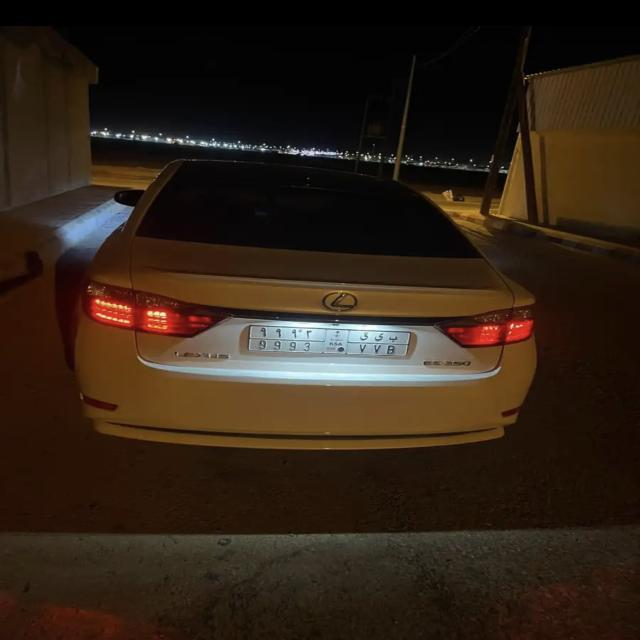license_plate: (250, 326, 410, 358)
